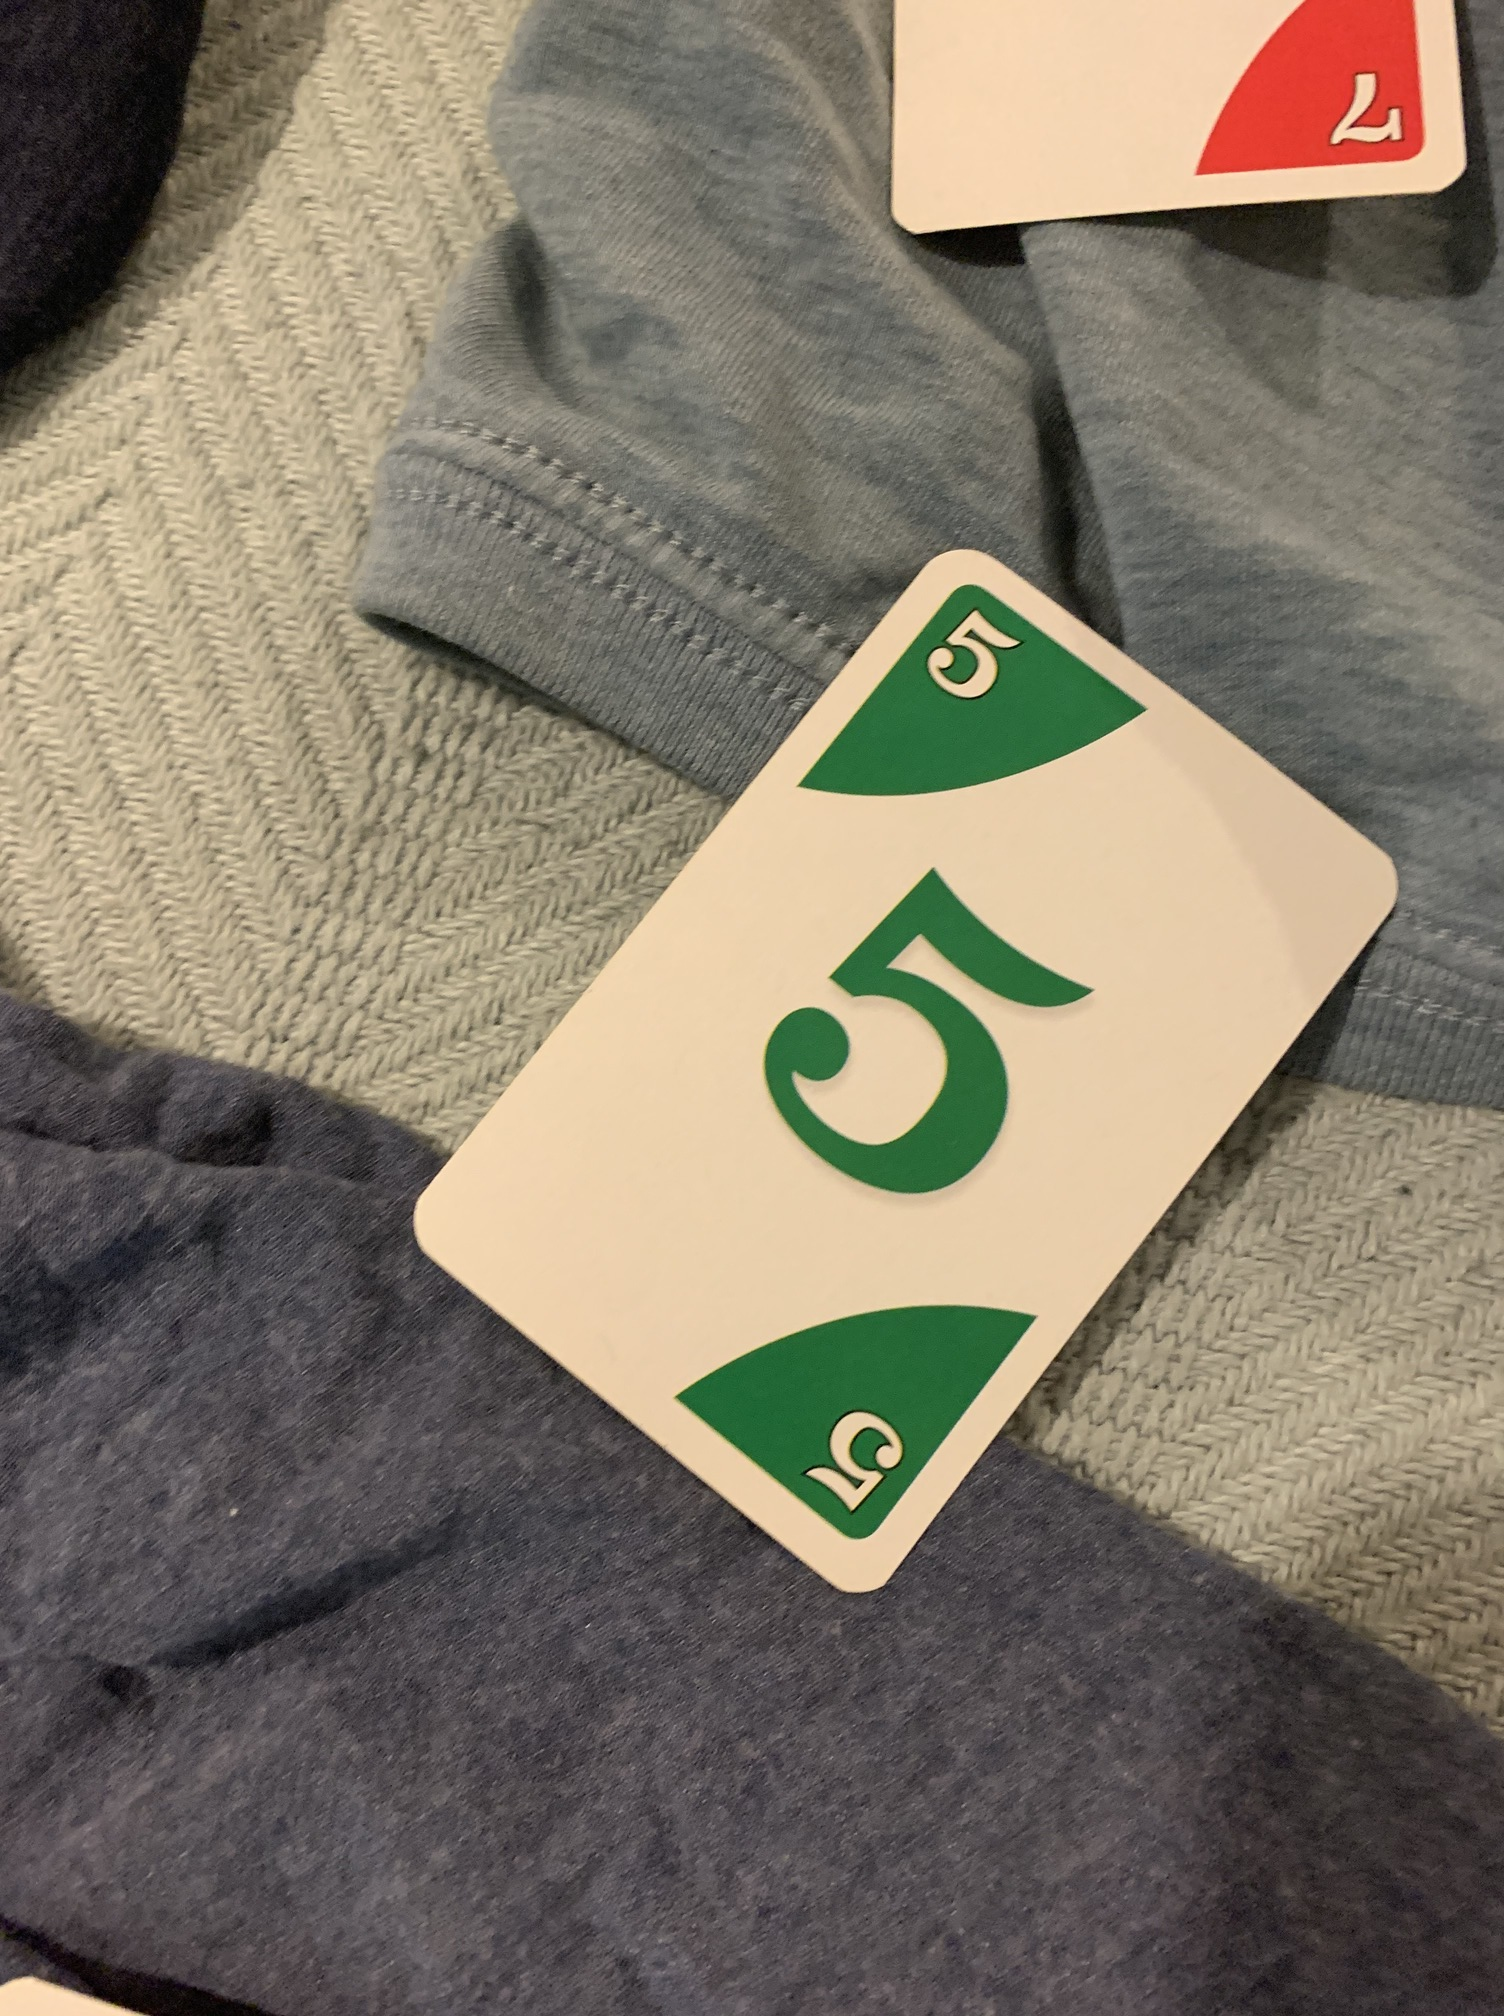five: (408, 543, 1397, 1605)
